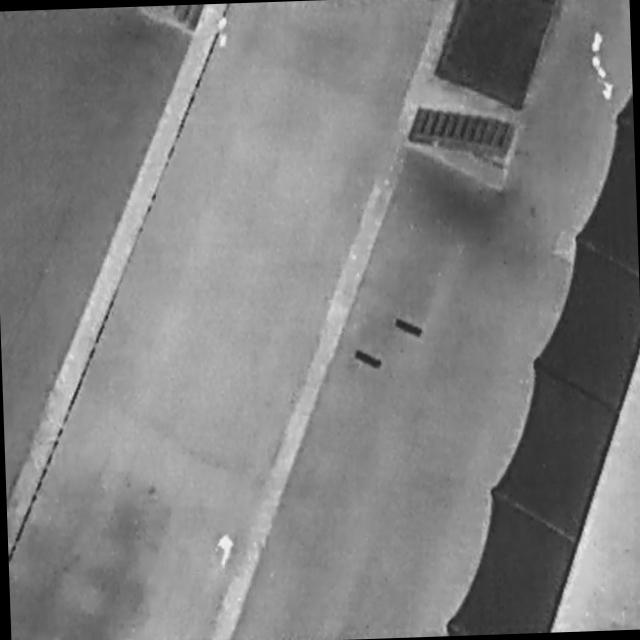person: (219, 532, 235, 570), (218, 15, 229, 48)
